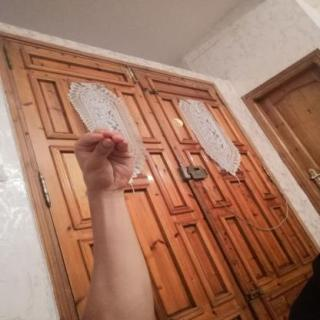HA: (62, 122, 146, 200)
